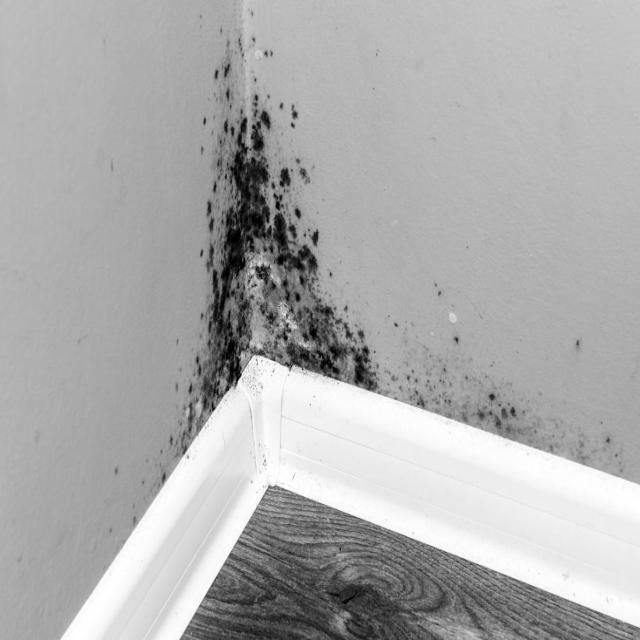stain marks: (162, 19, 383, 447), (389, 293, 628, 486)
